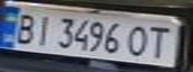3: (54, 15, 75, 49)
4: (72, 16, 90, 52)
6: (103, 20, 127, 55)
9: (87, 18, 109, 54)
B: (9, 10, 42, 45)
I: (30, 11, 57, 47)
O: (124, 22, 154, 58)
T: (142, 22, 178, 58)
